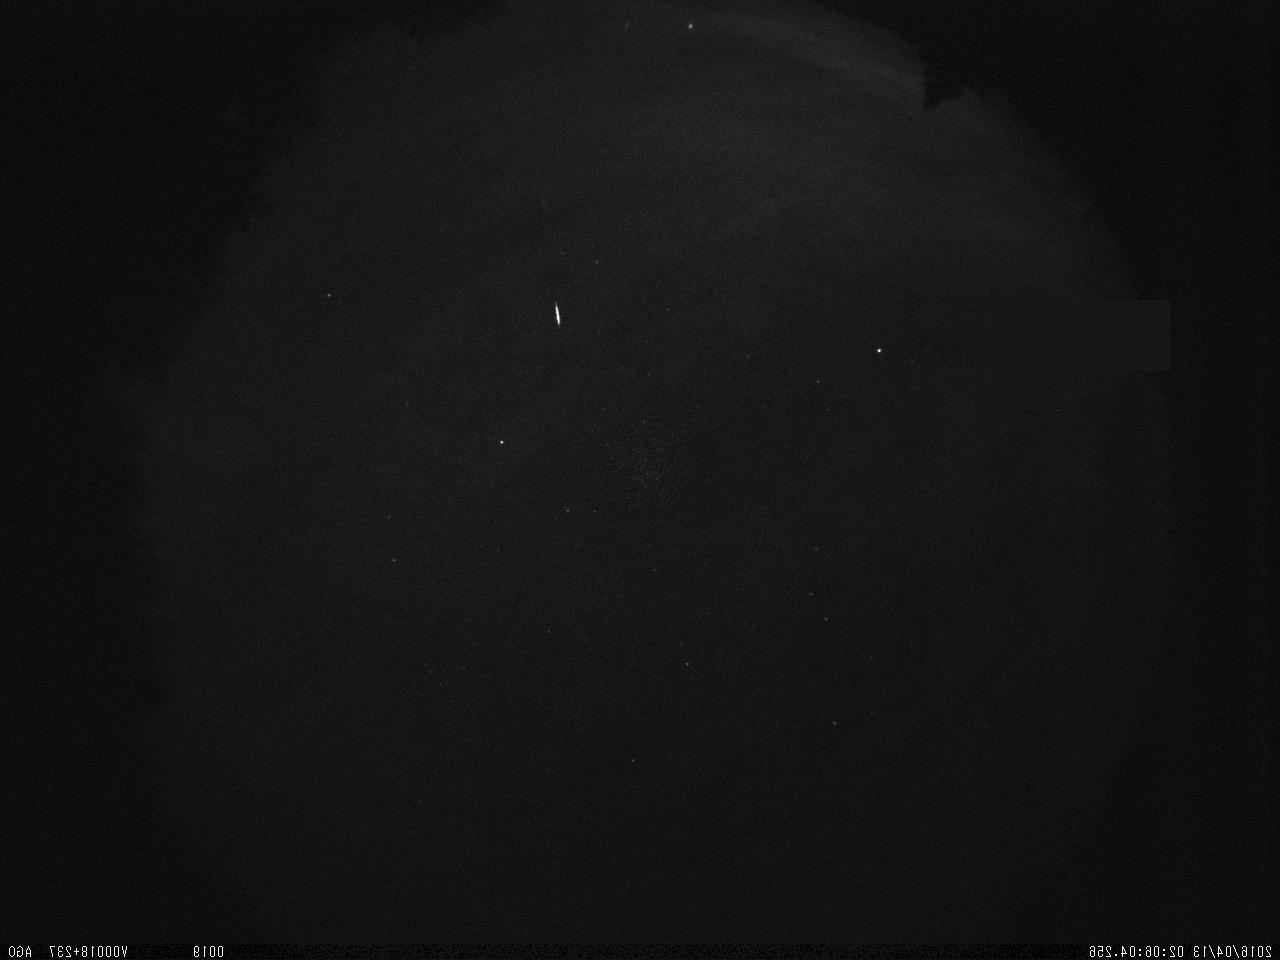meteor: (536, 278, 578, 353)
